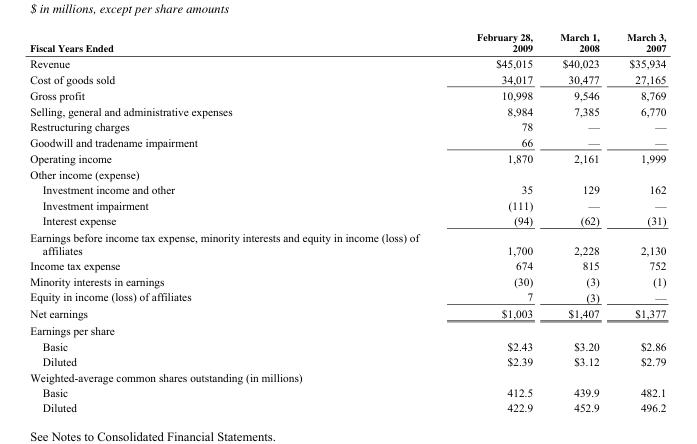table: (29, 29, 665, 413)
table column: (29, 29, 447, 413), (447, 29, 545, 413), (545, 29, 612, 413), (612, 29, 665, 413)
table column header: (29, 29, 665, 55)
table projected row header: (29, 321, 665, 338), (29, 165, 665, 181), (29, 369, 665, 384)
table row: (29, 228, 665, 257), (29, 29, 665, 55), (29, 304, 665, 321), (29, 321, 665, 338), (29, 55, 665, 71), (29, 71, 665, 87), (29, 102, 665, 118), (29, 118, 665, 134), (29, 134, 665, 150), (29, 165, 665, 181), (29, 181, 665, 197), (29, 212, 665, 228), (29, 257, 665, 273), (29, 288, 665, 304), (29, 353, 665, 369), (29, 87, 665, 102), (29, 150, 665, 165), (29, 197, 665, 212), (29, 273, 665, 288), (29, 338, 665, 353), (29, 369, 665, 384), (29, 384, 665, 399), (29, 399, 665, 413)
